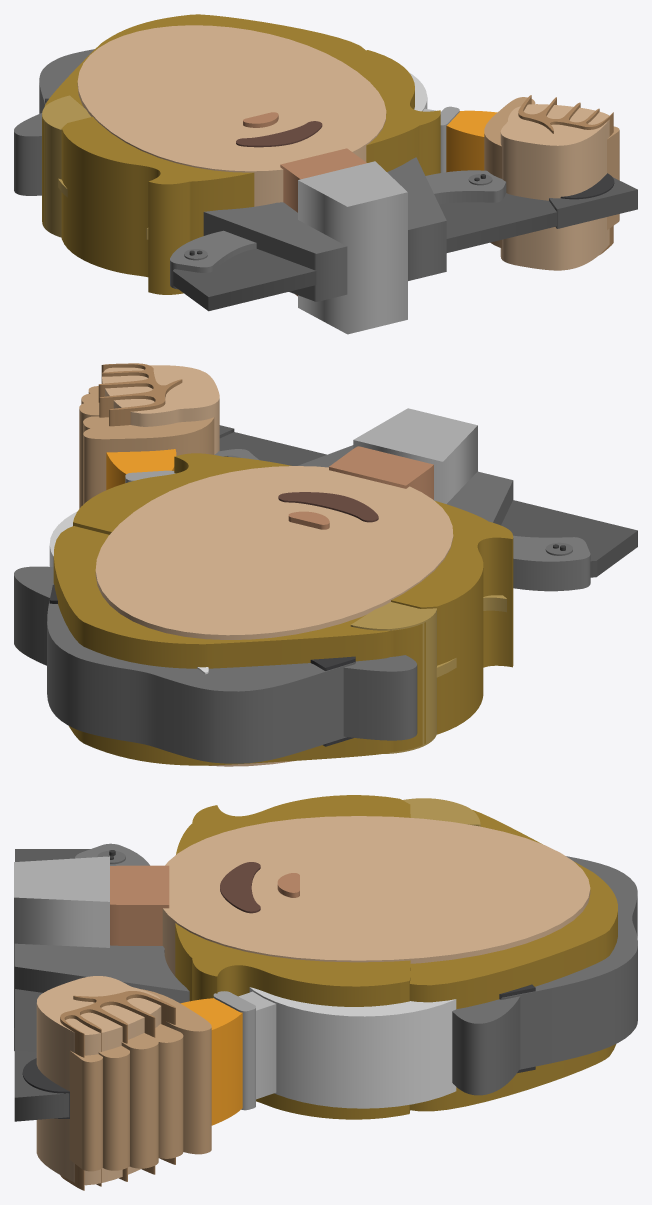
The model's file is emoji_u1f575_1f3fc.glb.
The picture shows the model from 3 angles, top to bottom: view 1: azimuth 30°, elevation 25°; view 2: azimuth 150°, elevation 25°; view 3: azimuth 270°, elevation 25°; orthographic projection. The views are drawn at different scales.
Parts seen in each view (by area): view 1: emoji_u1f575_1f3fc; view 2: emoji_u1f575_1f3fc; view 3: emoji_u1f575_1f3fc.
Part boxes in pixels (x1=…): emoji_u1f575_1f3fc: x1=14, y1=14, x2=637, y2=334; emoji_u1f575_1f3fc: x1=14, y1=363, x2=637, y2=766; emoji_u1f575_1f3fc: x1=14, y1=795, x2=637, y2=1190.
Size of the model in its own units: 0.0326 by 0.0092 by 0.0331.
